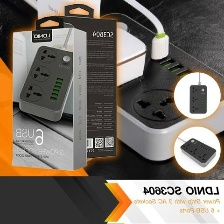book: (10, 25, 91, 171), (51, 14, 120, 162)
three_eye_plug: (48, 9, 224, 164), (179, 137, 218, 168), (187, 82, 210, 116)
